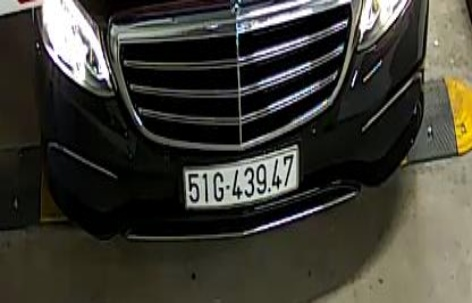plate: (175, 148, 308, 209)
